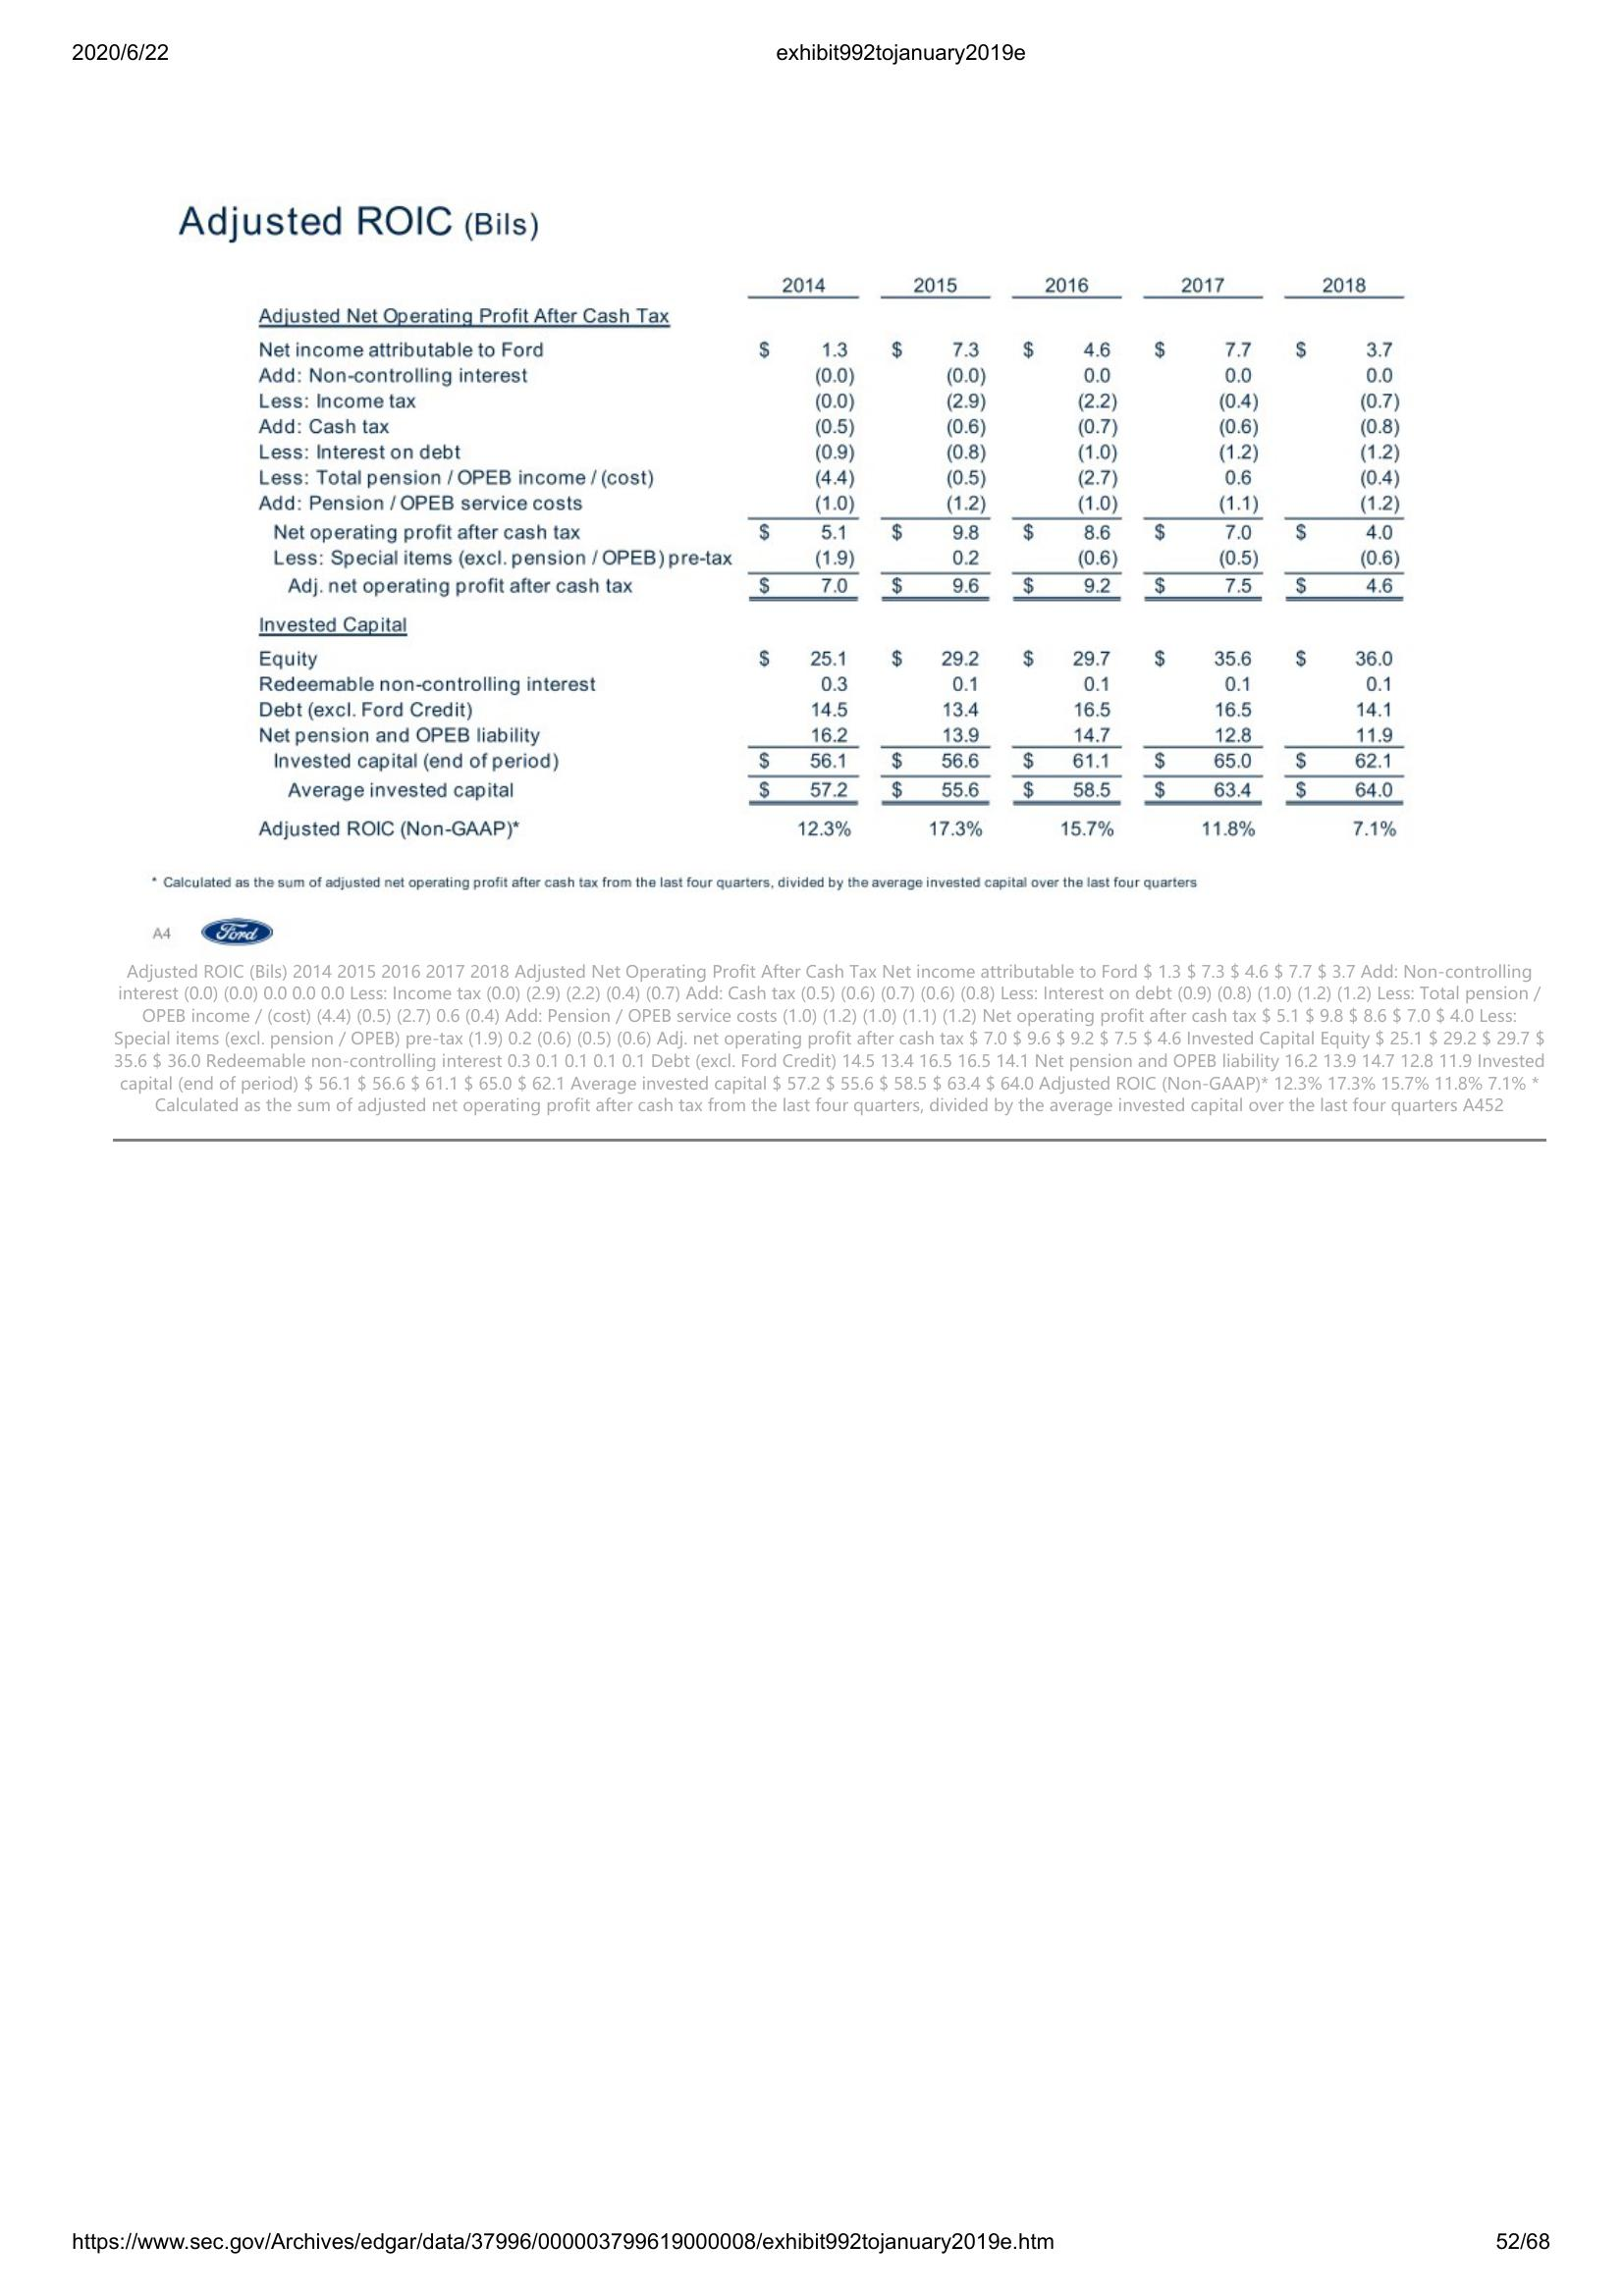table: (249, 253, 1410, 848)
